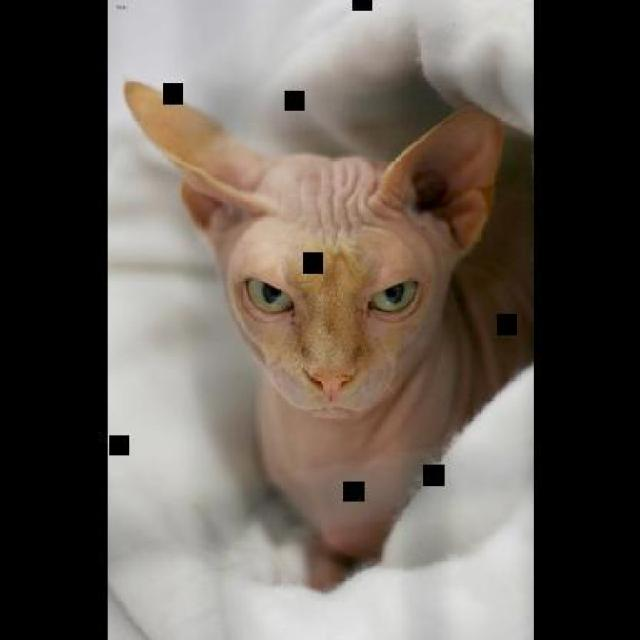unauthorized: (122, 77, 532, 591)
